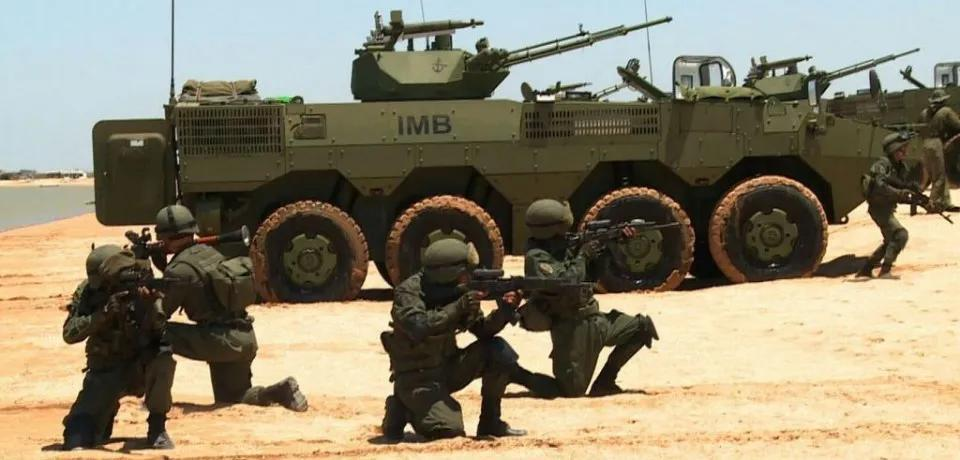MIL_IFV: (91, 9, 925, 308)
